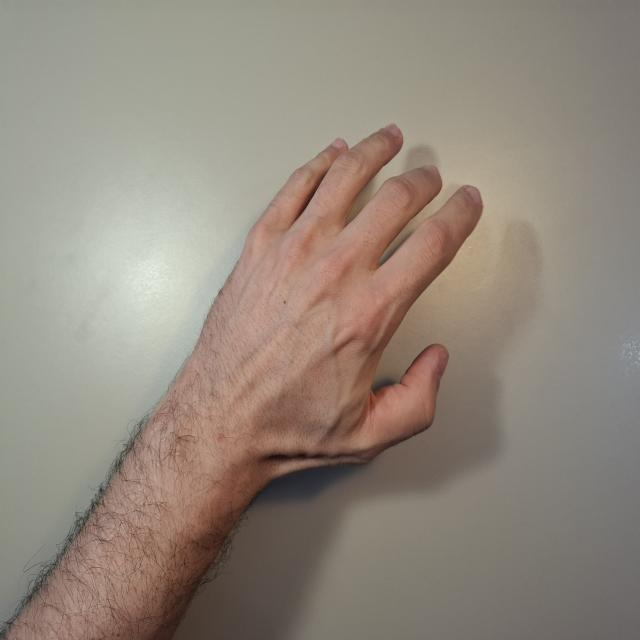glove_off: (188, 120, 486, 475)
